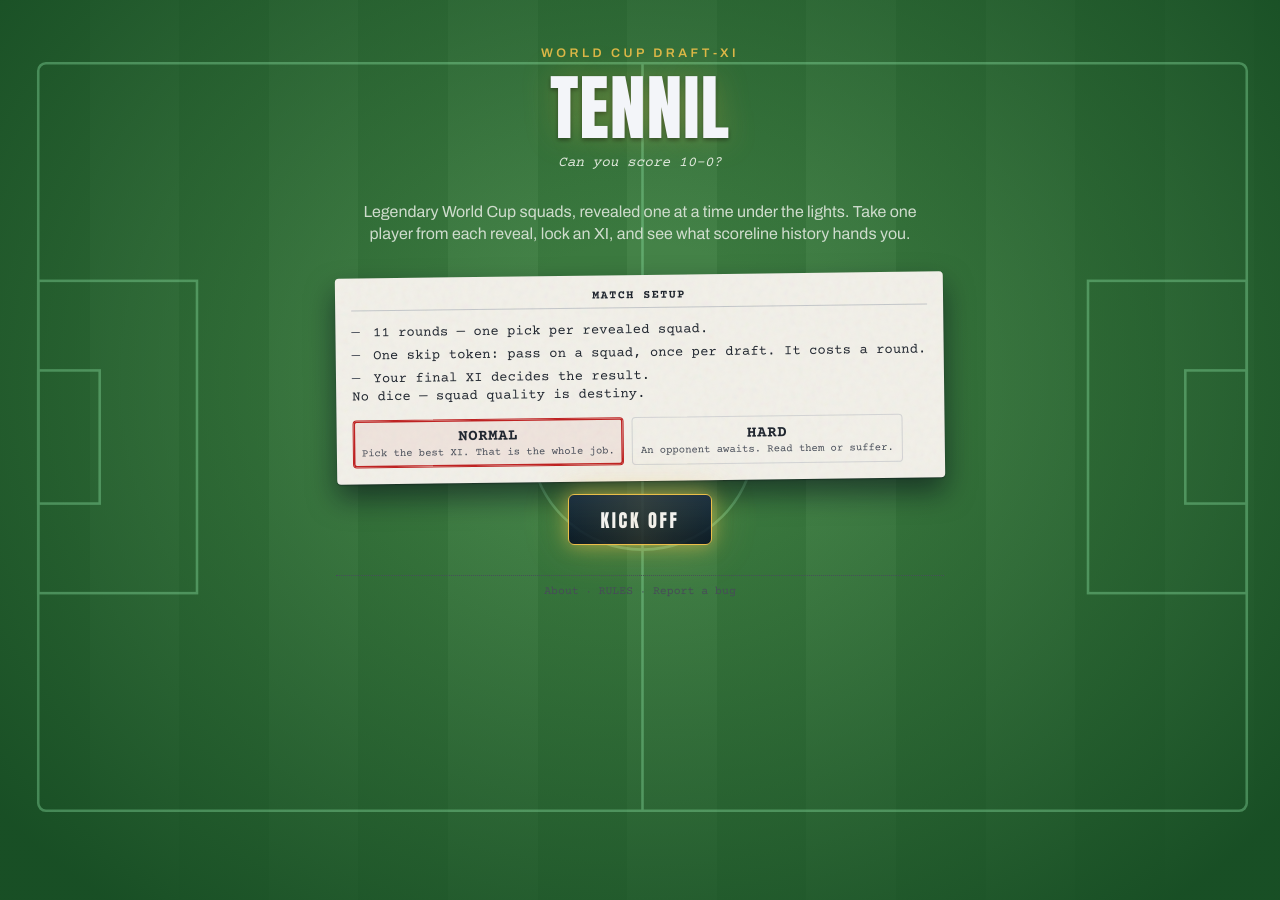
Scenario: App landing gate › Kick off shows formation gate, then Confirm Draft begins draft
Click the button "Kick off". click: (640, 520)
box: [568,494,712,545]
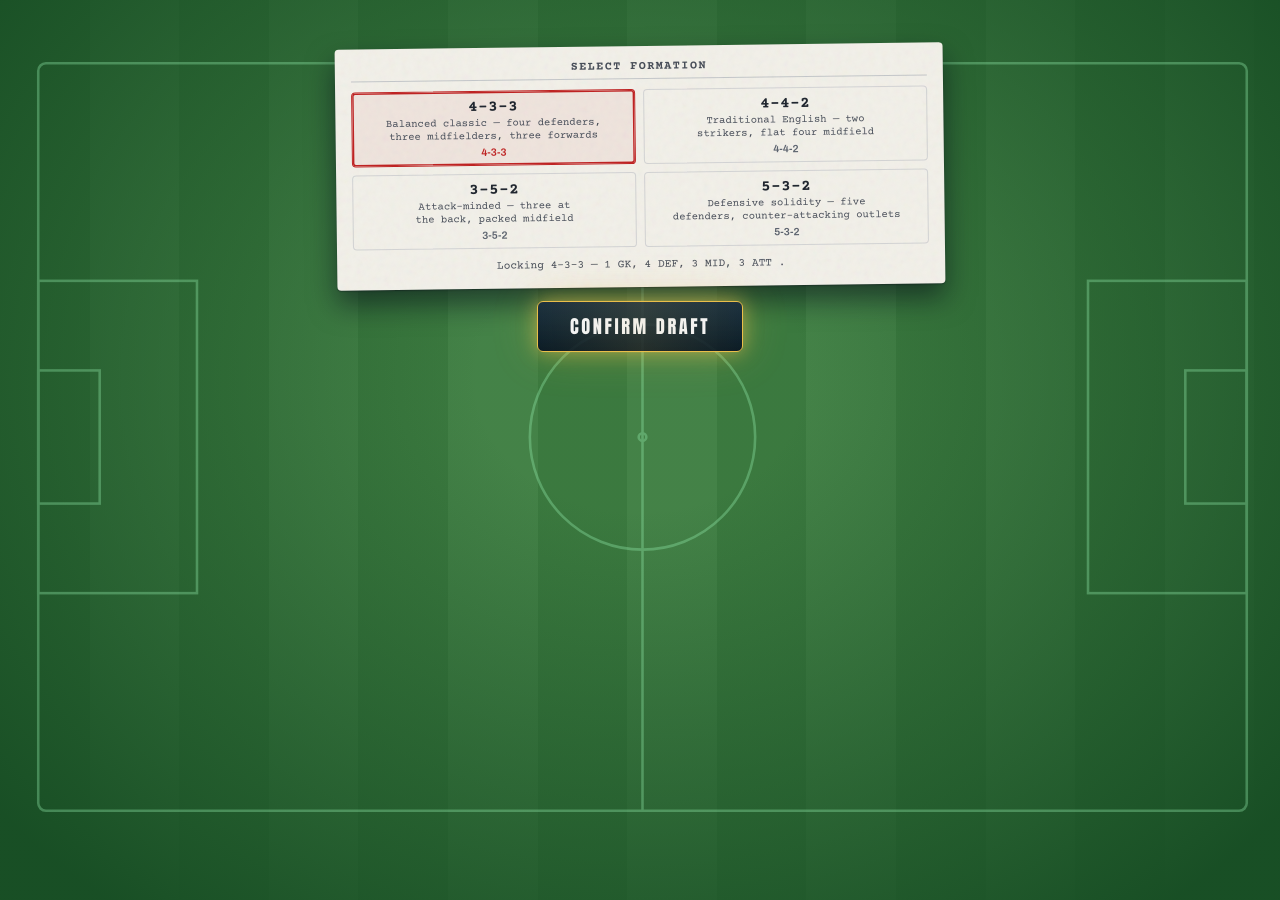
Check: the text "now revealing" is not shown
Check: the button "Confirm Draft" is shown
Click the button "Confirm Draft". click: (640, 326)
box: [537,301,743,352]
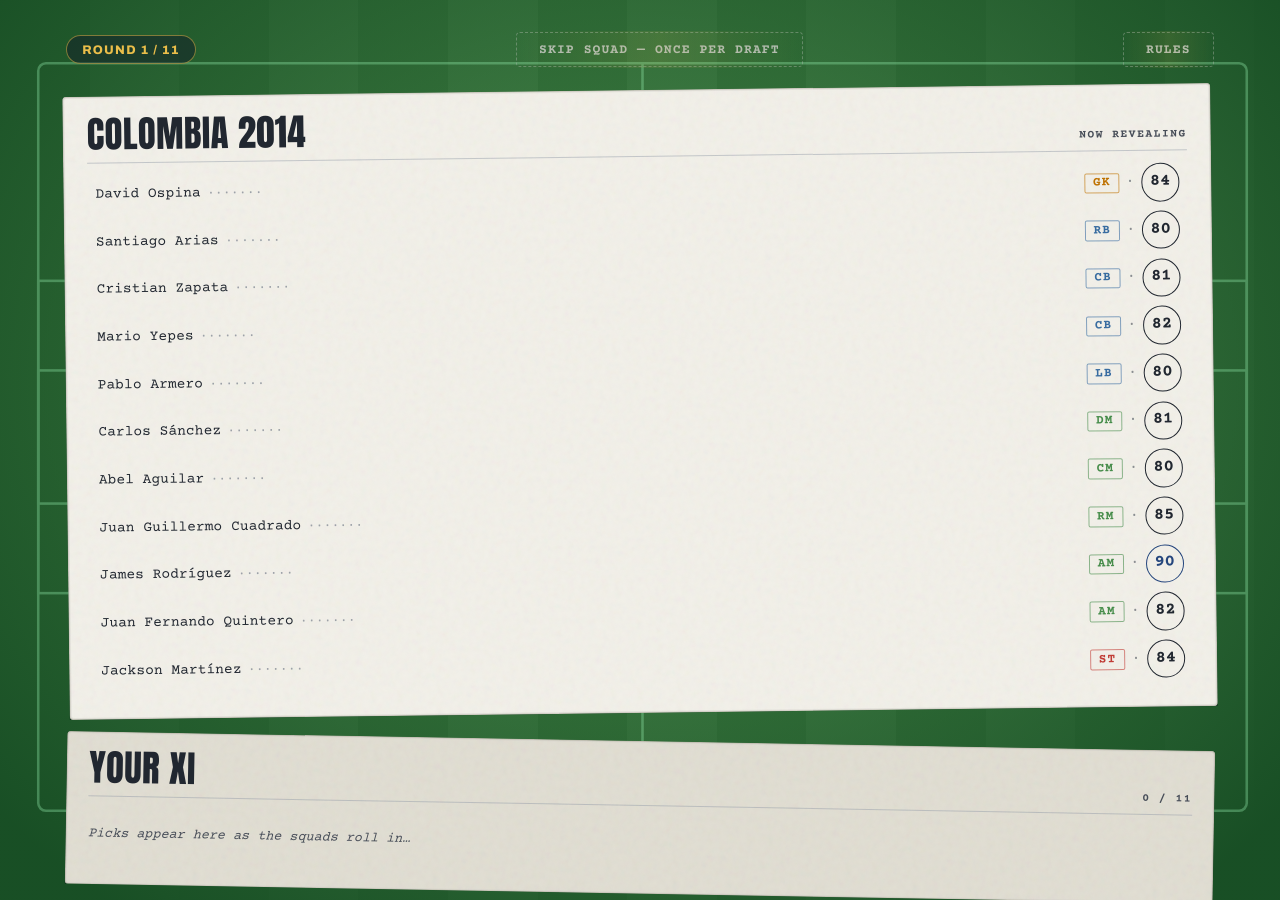
Check: the text "Now revealing" is shown, box [1079,127,1187,141]
